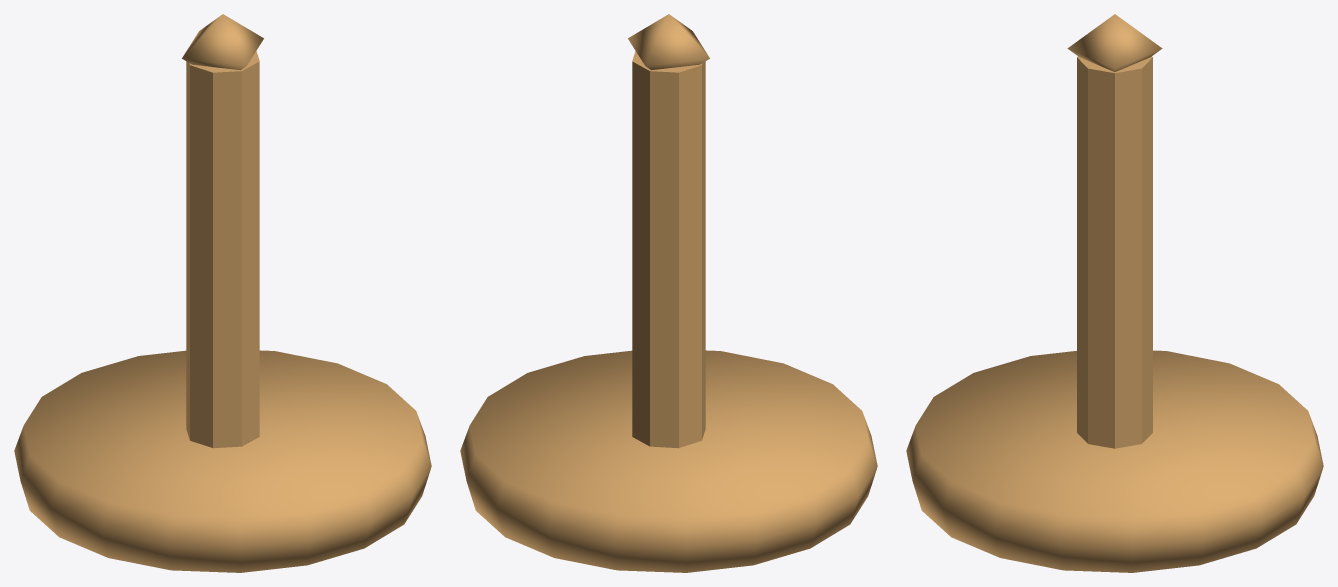
File: RingPeg.fbx
3 views of the same model, side by side, from view 1: azimuth 30°, elevation 25°; view 2: azimuth 150°, elevation 25°; view 3: azimuth 270°, elevation 25° (orthographic).
Visible parts, largest first — view 1: RingPeg; view 2: RingPeg; view 3: RingPeg.
Part boxes in pixels (x1,y1,x2,y2): RingPeg: (14,14,431,572); RingPeg: (460,14,877,572); RingPeg: (906,14,1323,572).
Bounding box in the file's own units: 0.0877 × 0.11 × 0.0877.
